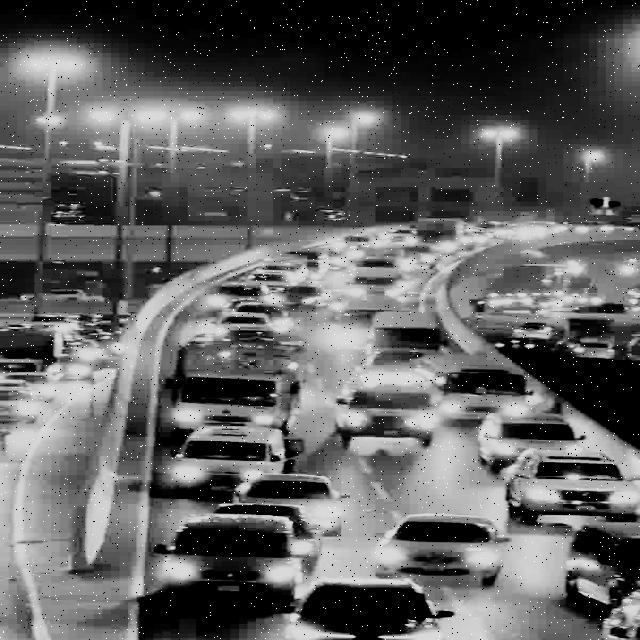Ambulance: (326, 366, 440, 450)
